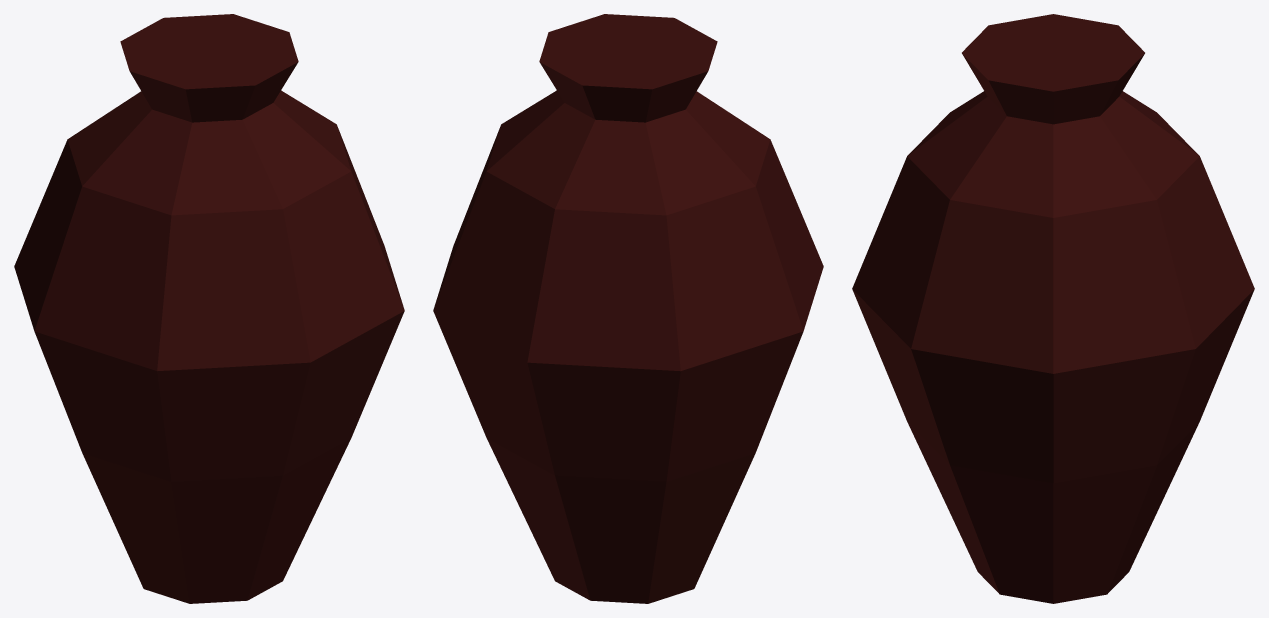
The model's file is vase.obj.
3 views of the same model, side by side, from view 1: azimuth 30°, elevation 25°; view 2: azimuth 150°, elevation 25°; view 3: azimuth 270°, elevation 25° (orthographic).
Parts seen in each view (by area): view 1: Cylinder; view 2: Cylinder; view 3: Cylinder.
Boxes of the visible parts, x1=… form: Cylinder: x1=14, y1=14, x2=404, y2=603; Cylinder: x1=433, y1=14, x2=823, y2=603; Cylinder: x1=852, y1=14, x2=1254, y2=603.
Bounding box in the file's own units: 1.2 × 1.7 × 1.2.
